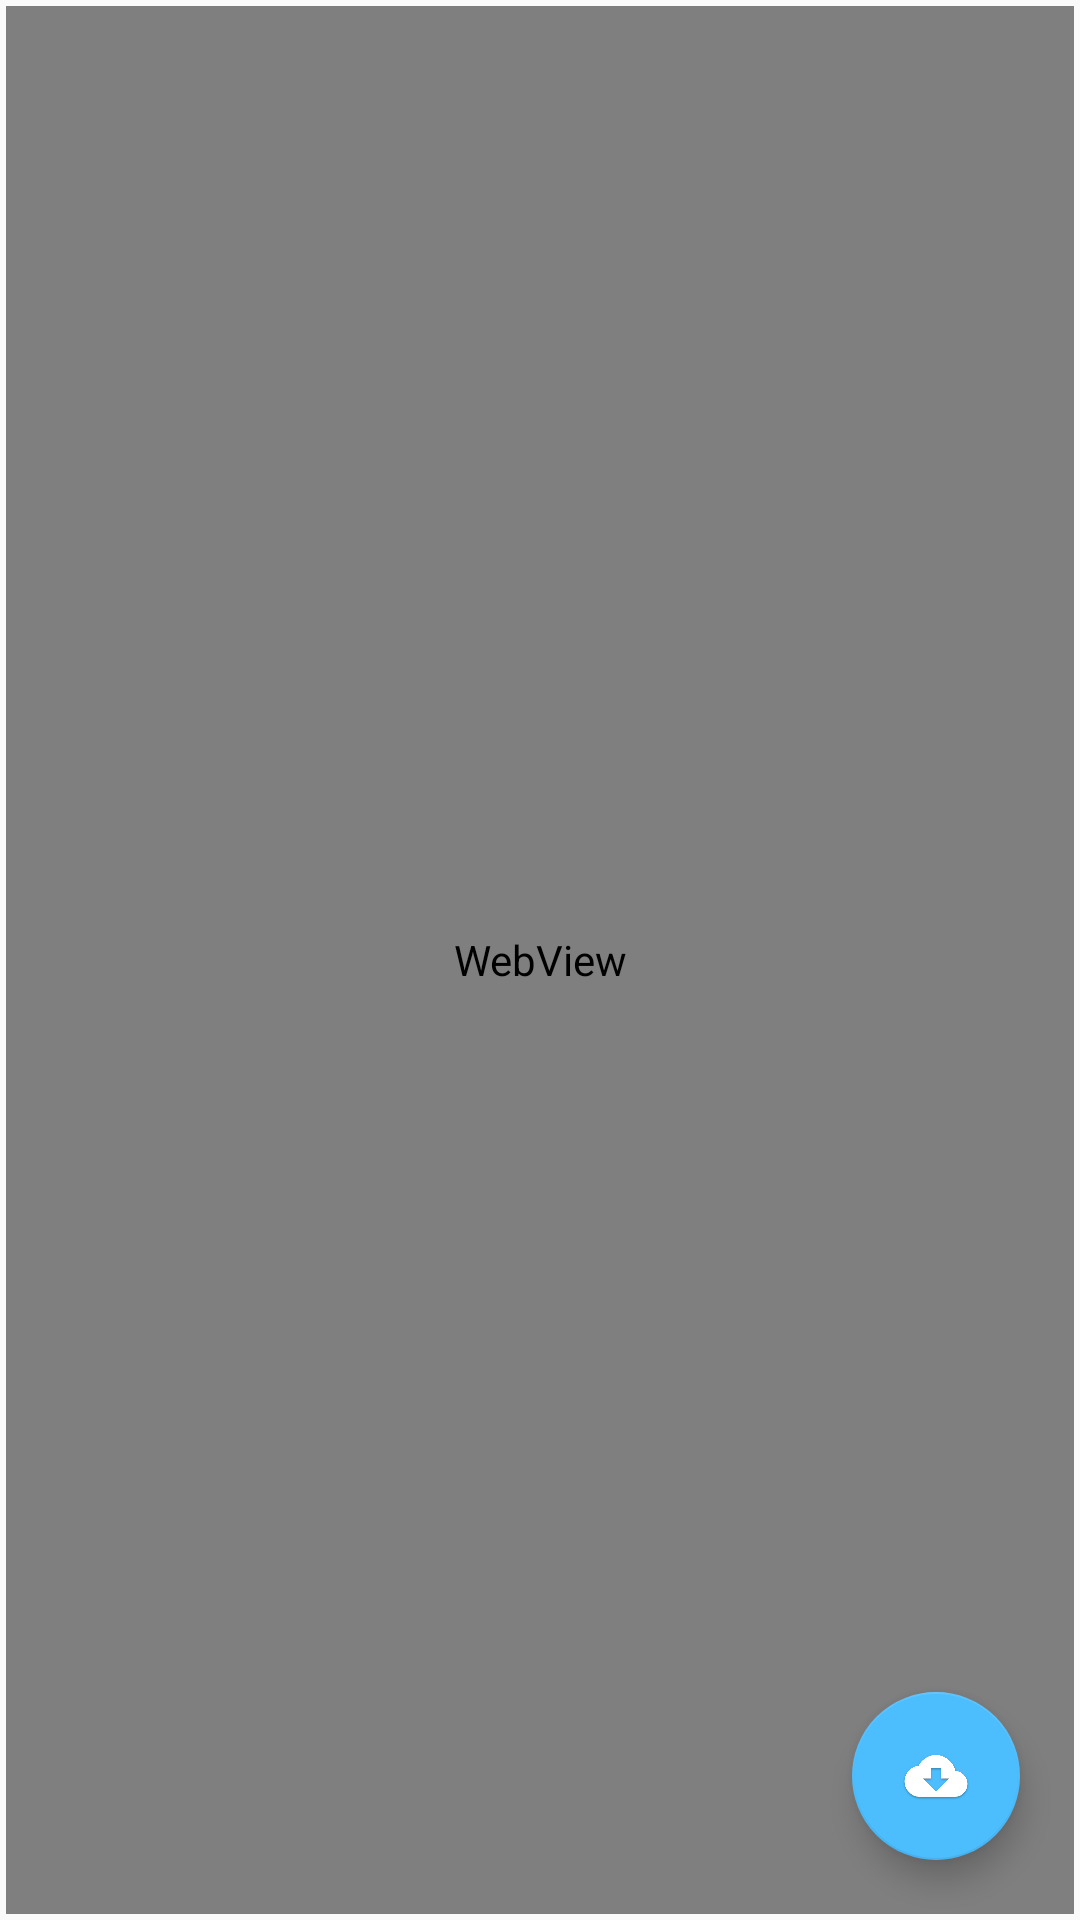

Icon click points for this 1080×1920 phone screenshot, format (x=x, y=y):
download: (x=936, y=1776)
